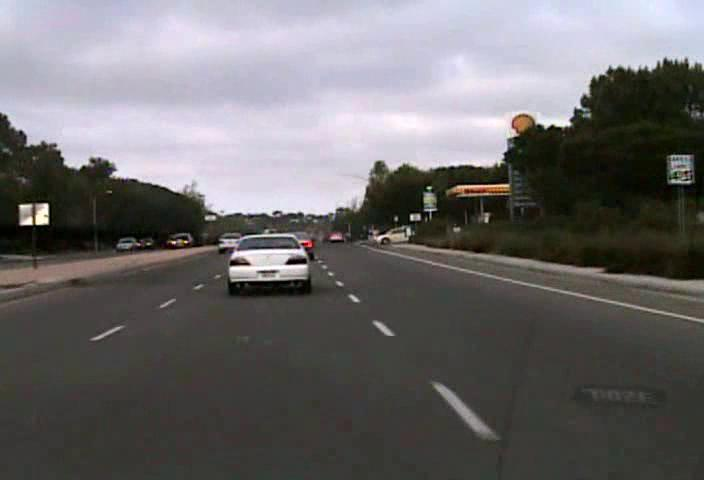speedLimit45: (665, 153, 694, 184)
